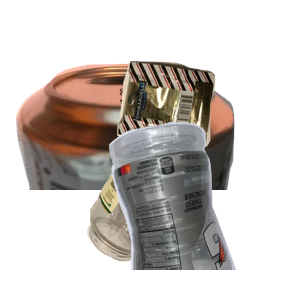glass: (85, 141, 275, 300)
metal: (13, 61, 240, 241)
plastic: (106, 120, 300, 300)
trash: (115, 58, 300, 200)
